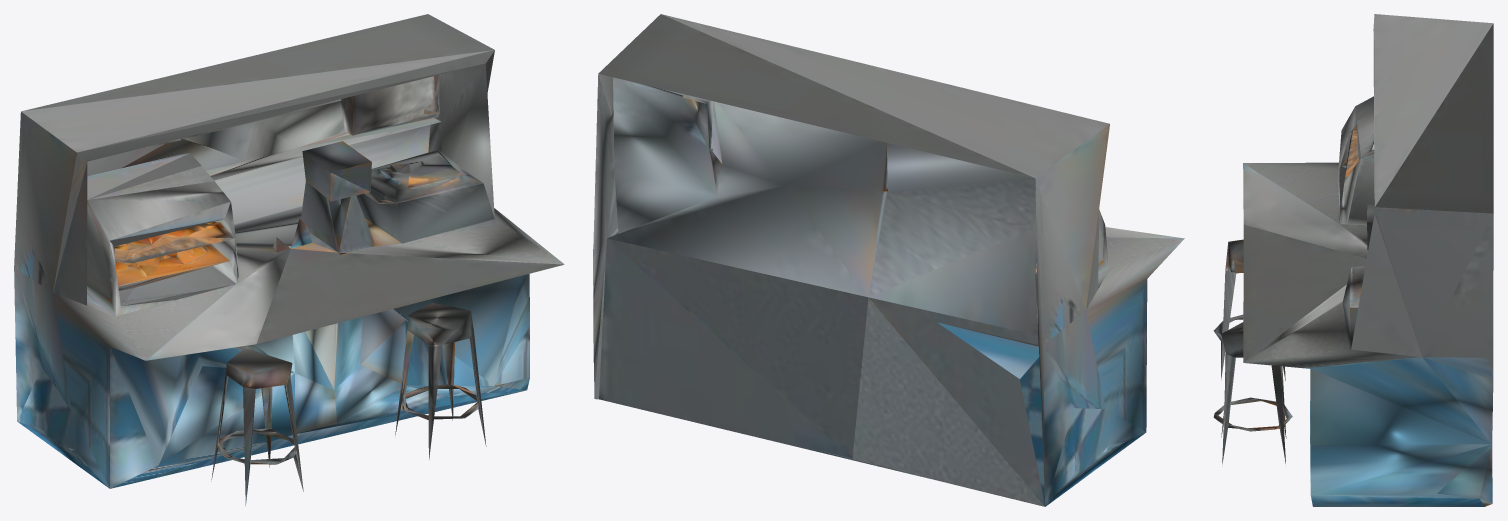
Rendered from fv_bar_counter.lod1.glb.
The picture shows the model from 3 angles, left to right: view 1: azimuth 30°, elevation 25°; view 2: azimuth 150°, elevation 25°; view 3: azimuth 270°, elevation 25°; orthographic projection. The views are drawn at different scales.
Parts seen in each view (by area): view 1: fv_bar_counter; view 2: fv_bar_counter; view 3: fv_bar_counter.
Part boxes in pixels (x1,y1,x2,y2): fv_bar_counter: (14, 14, 564, 505); fv_bar_counter: (593, 14, 1184, 506); fv_bar_counter: (1213, 14, 1493, 506).
Size of the model in its own units: 3.2 by 2.31 by 1.94.
Materials: 1 (1 with a texture image).
